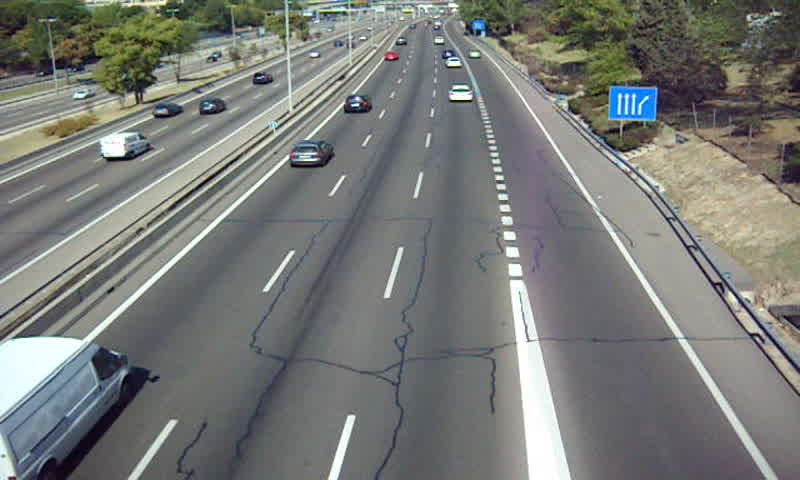car: (290, 141, 334, 165), (342, 93, 370, 114), (447, 84, 474, 103), (444, 56, 464, 69), (383, 51, 401, 62)
van: (1, 337, 129, 480)
